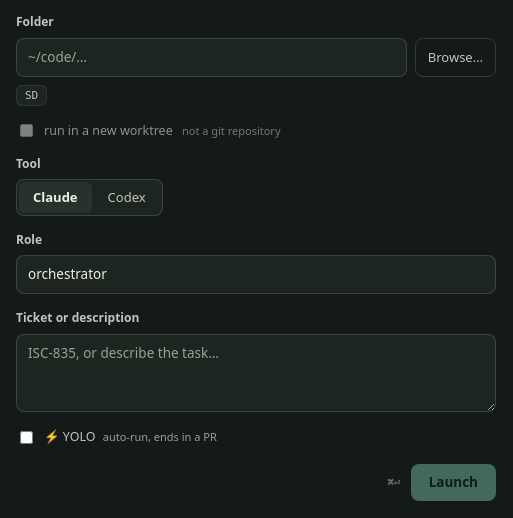
Test: Composer › requires a folder before launch is enabled
expect the submit button is disabled: met, box [411, 464, 496, 501]
Type "C:/x" into the field with id "composer-folder".
click(211, 57); type("C:/x")  # box [16, 38, 407, 76]
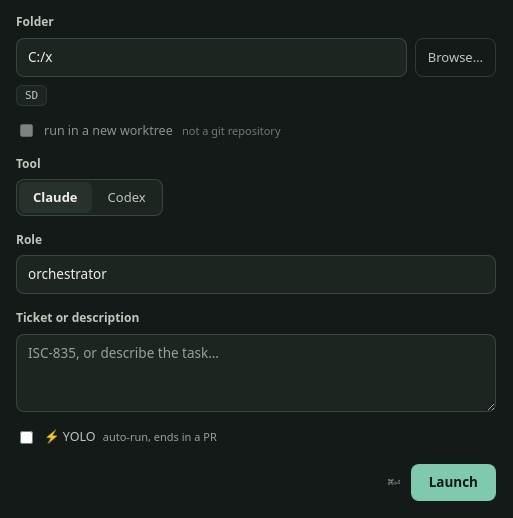
expect the submit button is enabled: met, box [411, 464, 496, 501]
